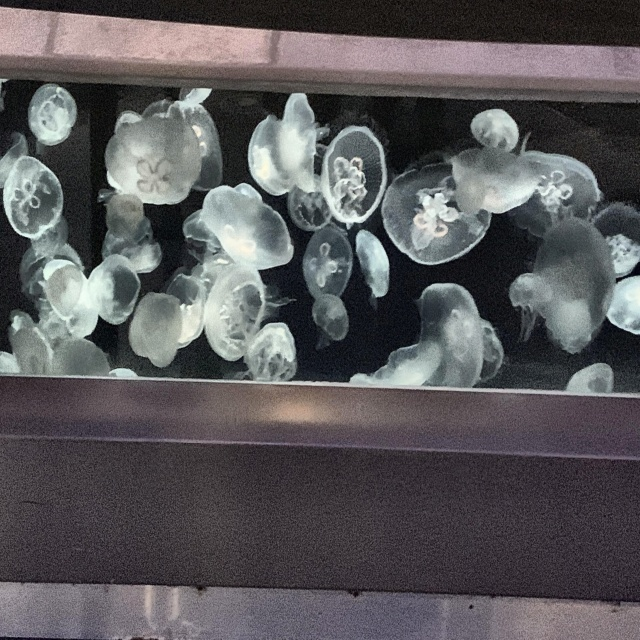jellyfish: (378, 154, 496, 272), (388, 268, 497, 395), (511, 219, 611, 346), (101, 100, 205, 210), (191, 174, 295, 278), (318, 120, 394, 230), (245, 92, 321, 199), (154, 88, 230, 193), (22, 235, 97, 337), (515, 141, 600, 230), (201, 256, 269, 352), (450, 139, 534, 215), (64, 253, 141, 331), (130, 287, 197, 369), (97, 192, 164, 274), (349, 343, 442, 396), (3, 149, 59, 237), (15, 201, 82, 270), (48, 321, 115, 389), (163, 268, 211, 359), (282, 164, 337, 233), (351, 231, 400, 307), (591, 198, 639, 272), (244, 319, 297, 386), (300, 224, 350, 295), (10, 308, 61, 375), (26, 86, 77, 146), (564, 348, 619, 398), (309, 292, 353, 347), (470, 108, 520, 153), (608, 267, 639, 338)
